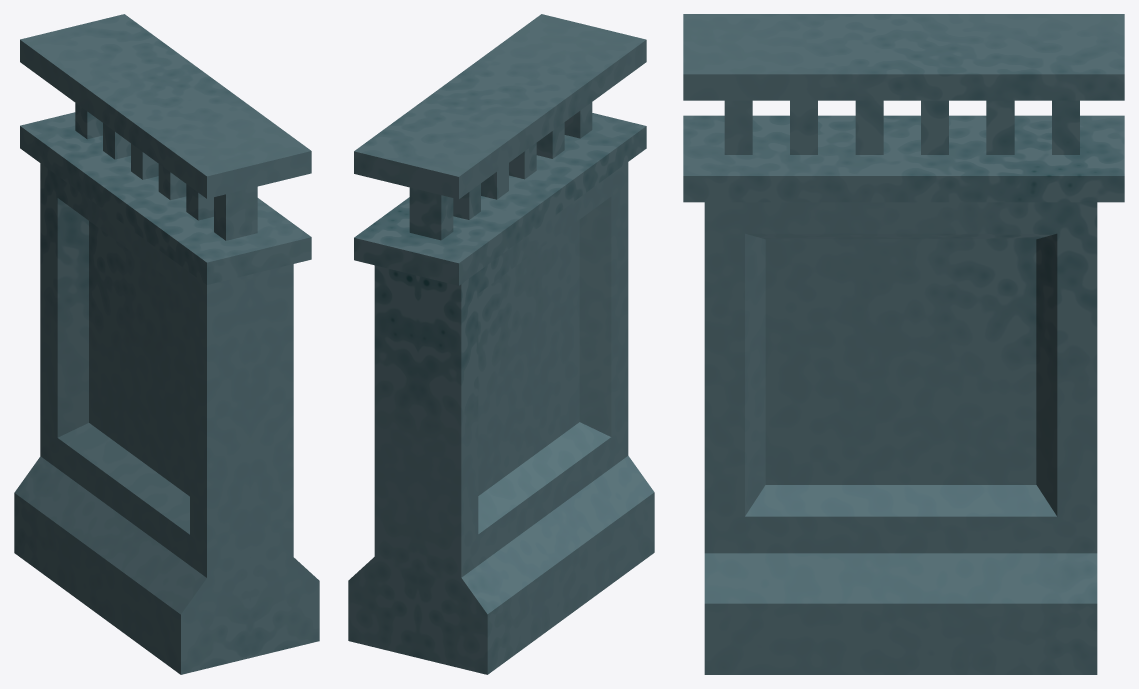
Rendered from OLD_ShortWall.fbx.
The picture shows the model from 3 angles, left to right: view 1: azimuth 30°, elevation 25°; view 2: azimuth 150°, elevation 25°; view 3: azimuth 270°, elevation 25°; orthographic projection. The views are drawn at different scales.
Parts seen in each view (by area): view 1: Wall.001, Topper.001; view 2: Wall.001, Topper.001; view 3: Wall.001, Topper.001.
Part boxes in pixels (x1,y1,x2,y2): Wall.001: (14, 163, 319, 674); Topper.001: (20, 14, 311, 284); Wall.001: (348, 162, 654, 674); Topper.001: (354, 14, 646, 285); Wall.001: (704, 202, 1097, 674); Topper.001: (683, 14, 1124, 202).
Bounding box in the file's own units: 96.22 × 332 × 225.
1 material, 1 textured.
